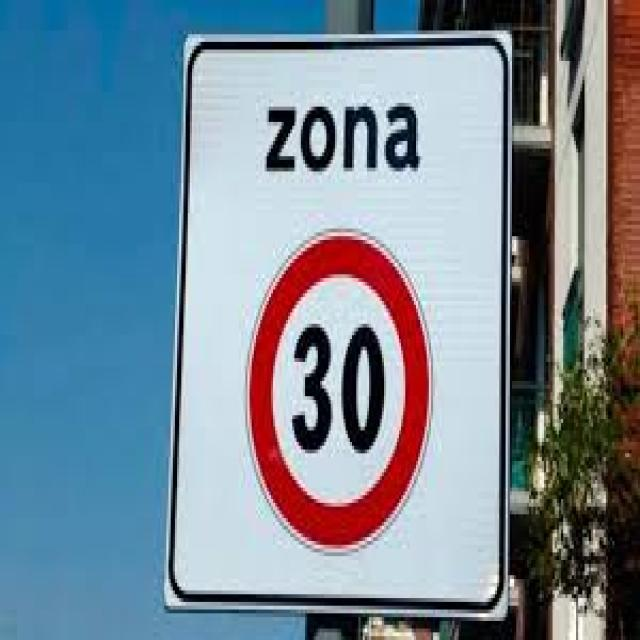Speed limit 30: (244, 226, 436, 553)
